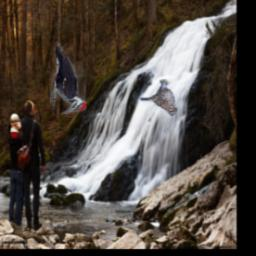Sparrow: (138, 80, 177, 117)
Woodpecker: (49, 43, 87, 115)
